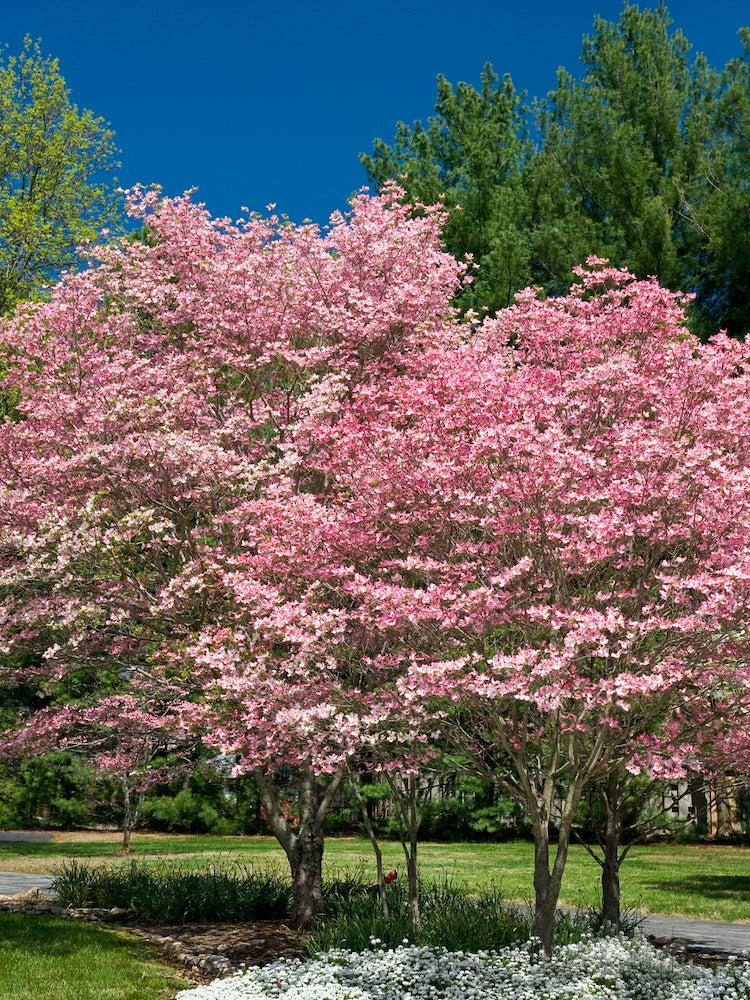grass: (0, 901, 192, 992), (453, 839, 594, 914), (623, 844, 742, 919)
tree: (242, 762, 347, 926), (505, 766, 580, 946), (382, 801, 442, 929), (585, 796, 635, 935)
